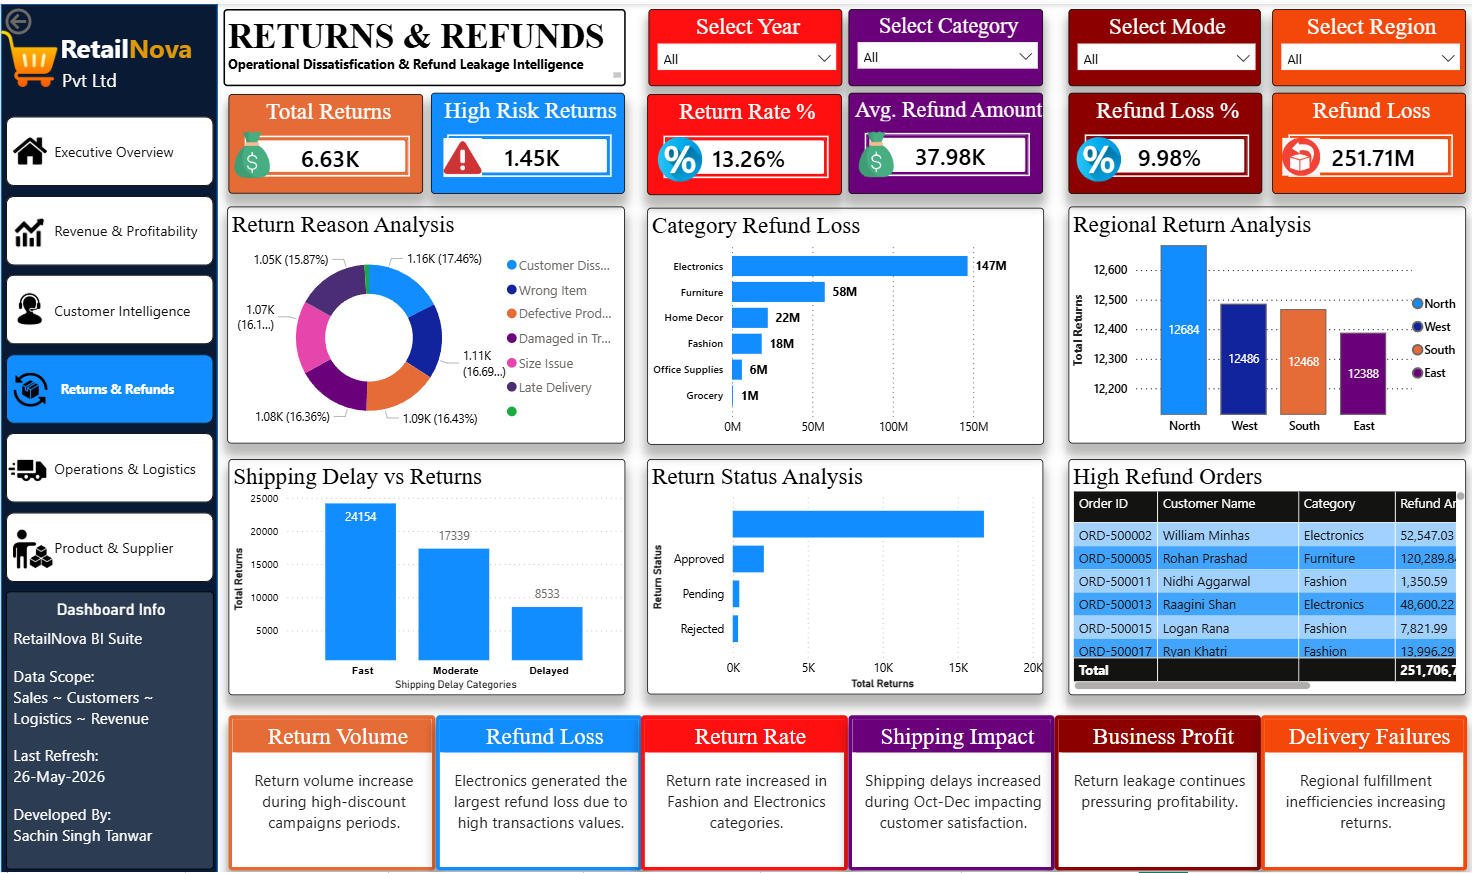

The page's visual inventory and layout, read from the dashboard file:
{"tool":"powerbi","page":{"name":"Returns & Refunds","canvas":[1530,900],"ordinal":3},"visuals":[{"type":"group","id":"g1","title":"Group 3","box":[230,5,1288.2,892.2],"z":0},{"type":"textbox","title":"RETURNS & REFUNDS","box":[230,5,417,79.6],"z":0,"group":"g1"},{"type":"image","box":[226.7,128.2,63.5,55.7],"z":1000},{"type":"group","id":"g2","title":"Group 2","box":[0,0,224.5,900.5],"z":2000},{"type":"cardVisual","title":"Total Returns","fields":{"Data":["master_analytics_dataset.Total Returns"]},"box":[234.7,93.4,202,103],"z":2000,"group":"g1"},{"type":"pageNavigator","box":[5.6,116.5,215.4,482.3],"z":2500,"group":"g3"},{"type":"actionButton","box":[0,0,99.7,36.3],"z":3000},{"type":"textbox","title":"Return Volume","box":[234.9,736.4,214.8,160.5],"z":3000,"group":"g1"},{"type":"donutChart","title":"Return Reason Analysis","fields":{"Category":["master_analytics_dataset.Return_Reason"],"Y":["CountNonNull(master_analytics_dataset.Return_ID)"]},"box":[233.3,210.2,412.2,245.9],"z":4000,"group":"g1"},{"type":"image","box":[11.9,134.5,36.6,35.4],"z":4500,"group":"g3"},{"type":"textbox","title":"Refund Loss","box":[449.7,736.4,213.4,160.5],"z":5000,"group":"g1"},{"type":"clusteredColumnChart","title":"Shipping Delay vs Returns","fields":{"Category":["master_analytics_dataset.Shipping Delay Categories"],"Y":["CountNonNull(master_analytics_dataset.Return_ID)"]},"box":[234.7,471.3,410.8,244.6],"z":6000,"group":"g1"},{"type":"image","box":[0,22,58.1,70],"z":6250,"group":"g3"},{"type":"shape","box":[0,0,224.5,900.5],"z":6500,"group":"g2"},{"type":"textbox","title":"Return Rate","box":[663.2,736.4,214.8,160.5],"z":7000,"group":"g1"},{"type":"columnChart","title":"Regional Return Analysis","fields":{"Category":["master_analytics_dataset.Region"],"Series":["master_analytics_dataset.Region"],"Y":["CountNonNull(master_analytics_dataset.Return_ID)"]},"box":[1105.7,210.2,412.2,245.9],"z":8000,"group":"g1"},{"type":"textbox","title":"Retail","box":[58.1,22,166.4,60.9],"z":8500,"group":"g3"},{"type":"textbox","title":"Shipping Impact","box":[877.9,736.4,213.4,160.5],"z":9000,"group":"g1"},{"type":"barChart","title":"Return Status Analysis","fields":{"Category":["master_analytics_dataset.Return_Status"],"Y":["CountNonNull(master_analytics_dataset.Return_ID)"]},"box":[668.8,470.8,410.6,244.4],"z":10000,"group":"g1"},{"type":"textbox","box":[58.4,60.9,93.8,42.8],"z":10500,"group":"g3"},{"type":"textbox","title":" Business Profit","box":[1091.4,736.4,213.4,160.7],"z":11000,"group":"g1"},{"type":"image","box":[13.9,221.2,30,30],"z":12500,"group":"g3"},{"type":"slicer","title":"Select Year","fields":{"Values":["master_analytics_dataset.Order_Date.Variation.Date Hierarchy.Year"]},"box":[670.2,5.5,200.6,79.7],"z":13000,"group":"g1"},{"type":"image","box":[11.9,298.2,36,36.3],"z":13000,"group":"g3"},{"type":"textbox","title":"Delivery Failures","box":[1304.8,736.4,213.4,160.5],"z":14000,"group":"g1"},{"type":"image","box":[12.9,382.2,35.8,35.2],"z":15000,"group":"g3"},{"type":"tableEx","title":"High Refund Orders","fields":{"Values":["master_analytics_dataset.Order_ID","master_analytics_dataset.Customer_Name","master_analytics_dataset.Category","Sum(master_analytics_dataset.Refund_Amount)","master_analytics_dataset.Return_Reason"]},"box":[1105.7,471.3,412.2,244.6],"z":15000,"group":"g1"},{"type":"cardVisual","title":"High Risk Returns","fields":{"Data":["master_analytics_dataset.High Risk Returns"]},"box":[444.9,92.1,200.6,104.4],"z":16000,"group":"g1"},{"type":"clusteredBarChart","title":"Category Refund Loss","fields":{"Category":["master_analytics_dataset.Category"],"Y":["Sum(master_analytics_dataset.Refund_Amount)"]},"box":[669.7,210.7,411.5,245.6],"z":17000,"group":"g1"},{"type":"image","box":[8.3,464,38.9,38.9],"z":17000,"group":"g3"},{"type":"slicer","title":"Select Category","fields":{"Values":["master_analytics_dataset.Category"]},"box":[877.7,5.5,202,79.7],"z":18000,"group":"g1"},{"type":"cardVisual","title":"Return Rate %","fields":{"Data":["master_analytics_dataset.Return Rate %"]},"box":[668.8,93.4,202,104.4],"z":19000,"group":"g1"},{"type":"image","box":[11.9,544.4,42.3,41.5],"z":19000,"group":"g3"},{"type":"textbox","title":"Dashboard Info","box":[5.6,608.5,215.4,287.7],"z":20000,"group":"g3"},{"type":"group","id":"g3","title":"Group 1","box":[0,22,224.5,874.2],"z":21001,"group":"g2"},{"type":"slicer","title":"Select Mode","fields":{"Values":["master_analytics_dataset.Ship_Mode"]},"box":[1105.7,5.5,199.2,79.7],"z":26000,"group":"g1"},{"type":"slicer","title":"Select Region","fields":{"Values":["master_analytics_dataset.Region"]},"box":[1317.3,5.5,200.6,79.7],"z":27000,"group":"g1"},{"type":"cardVisual","title":"Avg. Refund Amount","fields":{"Data":["Avg(master_analytics_dataset.Refund_Amount)"]},"box":[877.7,92.1,202,104.4],"z":28000,"group":"g1"},{"type":"cardVisual","title":"Refund Loss %","fields":{"Data":["master_analytics_dataset.Refund Loss %"]},"box":[1105.7,92.1,200.6,104.4],"z":29000,"group":"g1"},{"type":"cardVisual","title":"Refund Loss","fields":{"Data":["Sum(master_analytics_dataset.Refund_Amount)"]},"box":[1317.3,92.1,200.6,104.4],"z":30000,"group":"g1"},{"type":"image","box":[451.3,134.6,48.6,48.6],"z":31000,"group":"g1"},{"type":"image","box":[668.6,133.2,63.4,55.3],"z":32000,"group":"g1"},{"type":"image","box":[871.9,128.2,63.4,55.3],"z":33000,"group":"g1"},{"type":"image","box":[1103.2,133.2,63.4,55.3],"z":34000,"group":"g1"},{"type":"image","box":[1316.5,134.6,55.3,47.2],"z":35000,"group":"g1"}]}

Visuals, with their boxes in screenshot pixels (x1, y1, x2, y2), scaled from the page's 1530x900 canvas onto the 1472x873 screenshot:
"Group 3" group: [x1=221, y1=5, x2=1461, y2=870]
"RETURNS & REFUNDS" textbox: [x1=221, y1=5, x2=622, y2=82]
image: [x1=218, y1=124, x2=279, y2=178]
"Group 2" group: [x1=0, y1=0, x2=216, y2=872]
"Total Returns" cardVisual: [x1=226, y1=91, x2=420, y2=191]
pageNavigator: [x1=5, y1=113, x2=213, y2=581]
actionButton: [x1=0, y1=0, x2=96, y2=35]
"Return Volume" textbox: [x1=226, y1=714, x2=433, y2=870]
"Return Reason Analysis" donutChart: [x1=224, y1=204, x2=621, y2=442]
image: [x1=11, y1=130, x2=47, y2=165]
"Refund Loss" textbox: [x1=433, y1=714, x2=638, y2=870]
"Shipping Delay vs Returns" clusteredColumnChart: [x1=226, y1=457, x2=621, y2=694]
image: [x1=0, y1=21, x2=56, y2=89]
shape: [x1=0, y1=0, x2=216, y2=872]
"Return Rate" textbox: [x1=638, y1=714, x2=845, y2=870]
"Regional Return Analysis" columnChart: [x1=1064, y1=204, x2=1460, y2=442]
"Retail" textbox: [x1=56, y1=21, x2=216, y2=80]
"Shipping Impact" textbox: [x1=845, y1=714, x2=1050, y2=870]
"Return Status Analysis" barChart: [x1=643, y1=457, x2=1038, y2=694]
textbox: [x1=56, y1=59, x2=146, y2=101]
" Business Profit" textbox: [x1=1050, y1=714, x2=1255, y2=870]
image: [x1=13, y1=215, x2=42, y2=244]
"Select Year" slicer: [x1=645, y1=5, x2=838, y2=83]
image: [x1=11, y1=289, x2=46, y2=324]
"Delivery Failures" textbox: [x1=1255, y1=714, x2=1461, y2=870]
image: [x1=12, y1=371, x2=47, y2=405]
"High Refund Orders" tableEx: [x1=1064, y1=457, x2=1460, y2=694]
"High Risk Returns" cardVisual: [x1=428, y1=89, x2=621, y2=191]
"Category Refund Loss" clusteredBarChart: [x1=644, y1=204, x2=1040, y2=443]
image: [x1=8, y1=450, x2=45, y2=488]
"Select Category" slicer: [x1=844, y1=5, x2=1039, y2=83]
"Return Rate %" cardVisual: [x1=643, y1=91, x2=838, y2=192]
image: [x1=11, y1=528, x2=52, y2=568]
"Dashboard Info" textbox: [x1=5, y1=590, x2=213, y2=869]
"Group 1" group: [x1=0, y1=21, x2=216, y2=869]
"Select Mode" slicer: [x1=1064, y1=5, x2=1255, y2=83]
"Select Region" slicer: [x1=1267, y1=5, x2=1460, y2=83]
"Avg. Refund Amount" cardVisual: [x1=844, y1=89, x2=1039, y2=191]
"Refund Loss %" cardVisual: [x1=1064, y1=89, x2=1257, y2=191]
"Refund Loss" cardVisual: [x1=1267, y1=89, x2=1460, y2=191]
image: [x1=434, y1=131, x2=481, y2=178]
image: [x1=643, y1=129, x2=704, y2=183]
image: [x1=839, y1=124, x2=900, y2=178]
image: [x1=1061, y1=129, x2=1122, y2=183]
image: [x1=1267, y1=131, x2=1320, y2=176]
